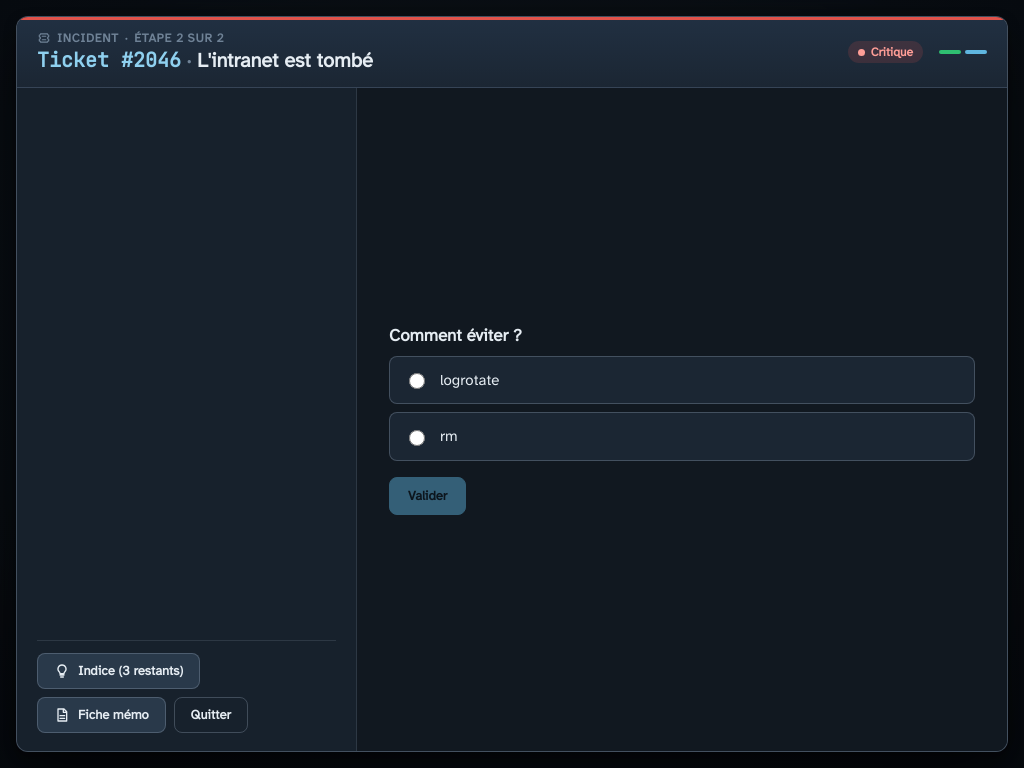
Test case: <MissionWindow> › gère une étape à choix, puis le bouton de fin de mission
Click the radio button labelled "rm": x=417, y=438 [409,430,425,446]
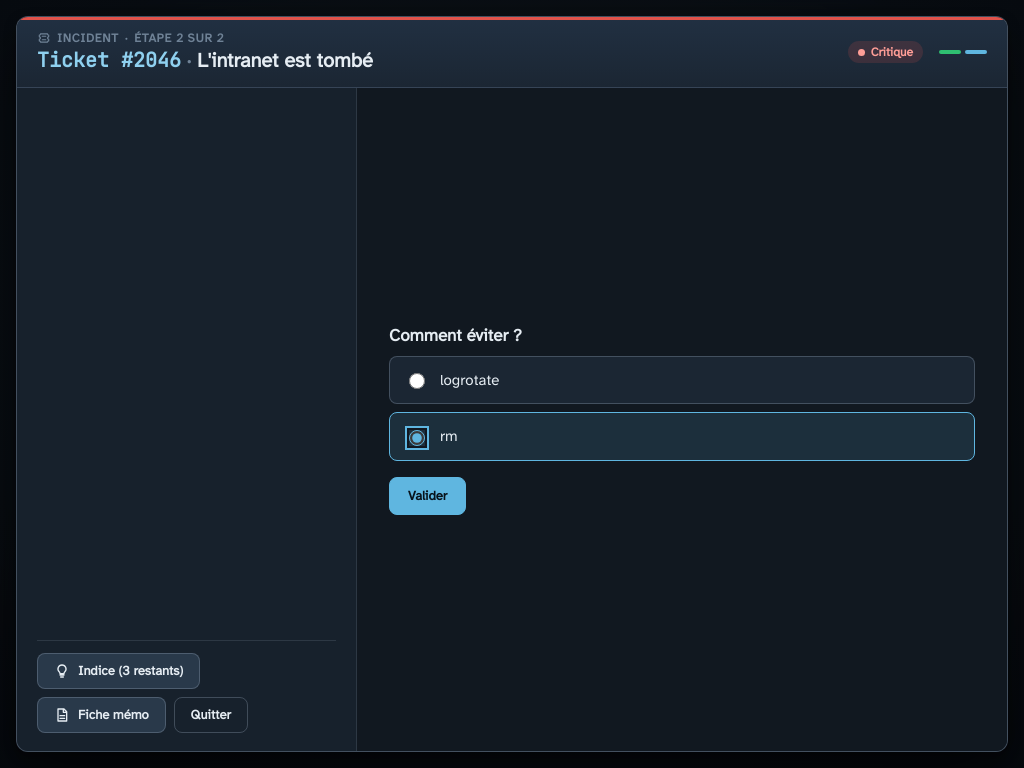
Click the radio button labelled "logrotate": x=417, y=381 [409,373,425,389]
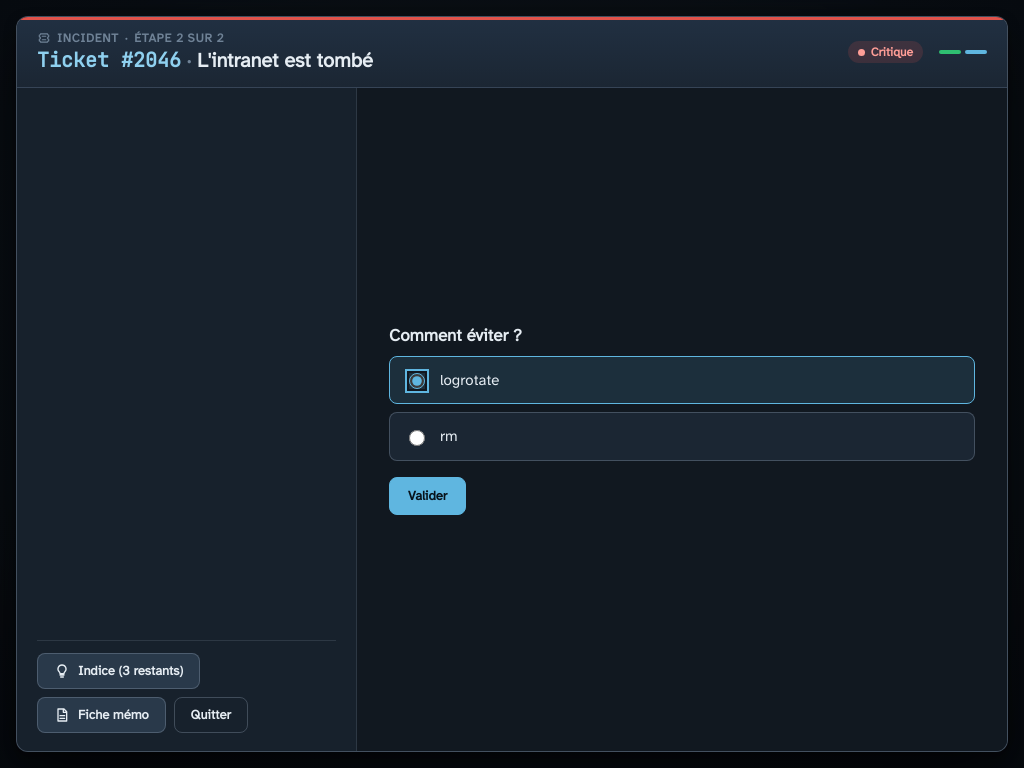
Click the button "Valider": x=428, y=496 [389,476,466,514]
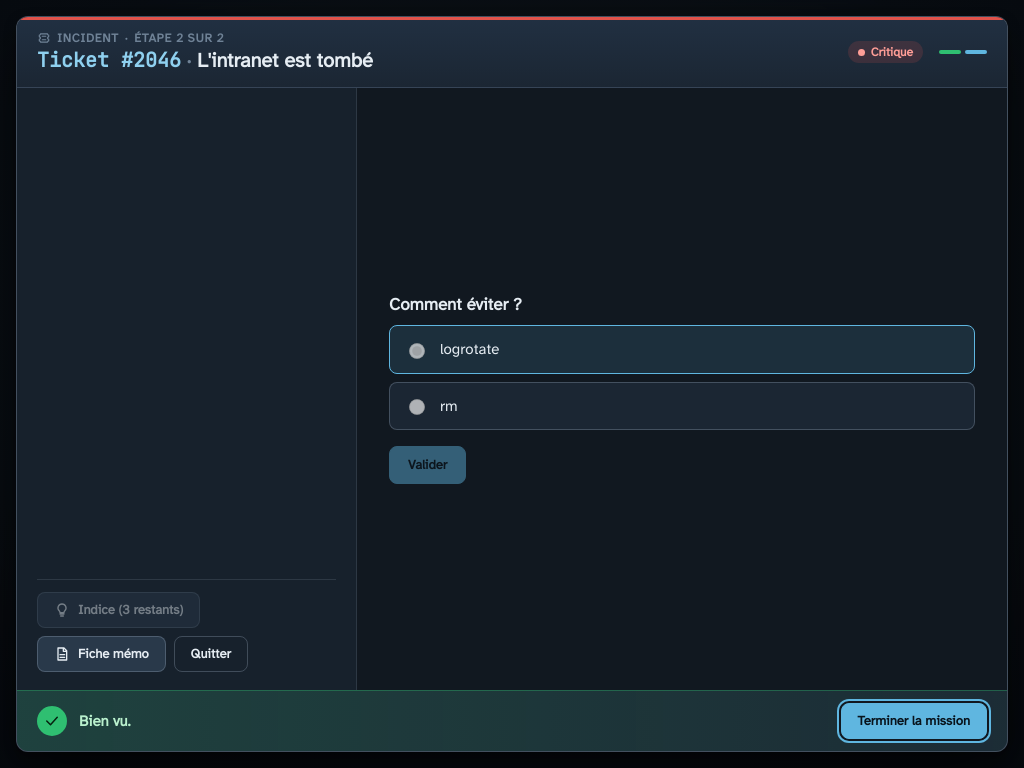
Check: the text "Bien vu." is shown, box [79,712,131,730]
